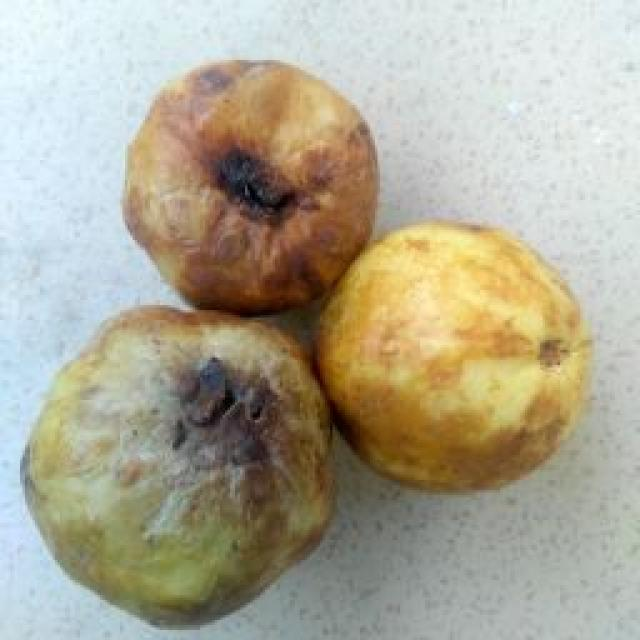Bad_Guava: (22, 308, 332, 626), (124, 61, 378, 313)
